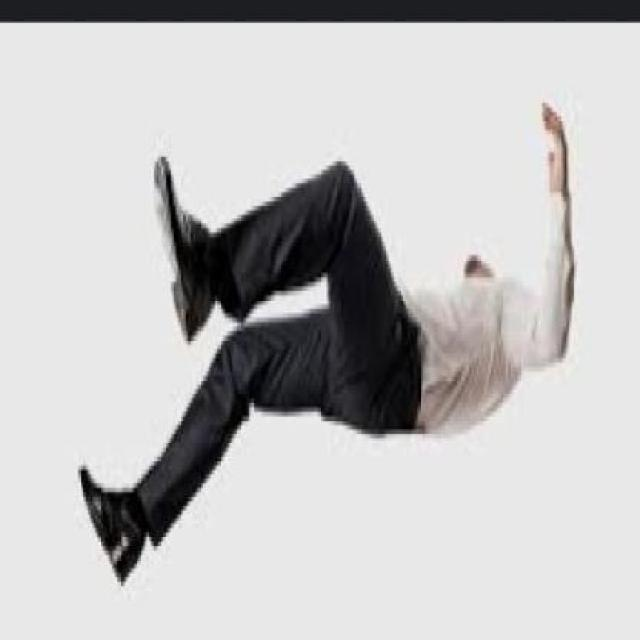fall: (72, 96, 580, 596)
